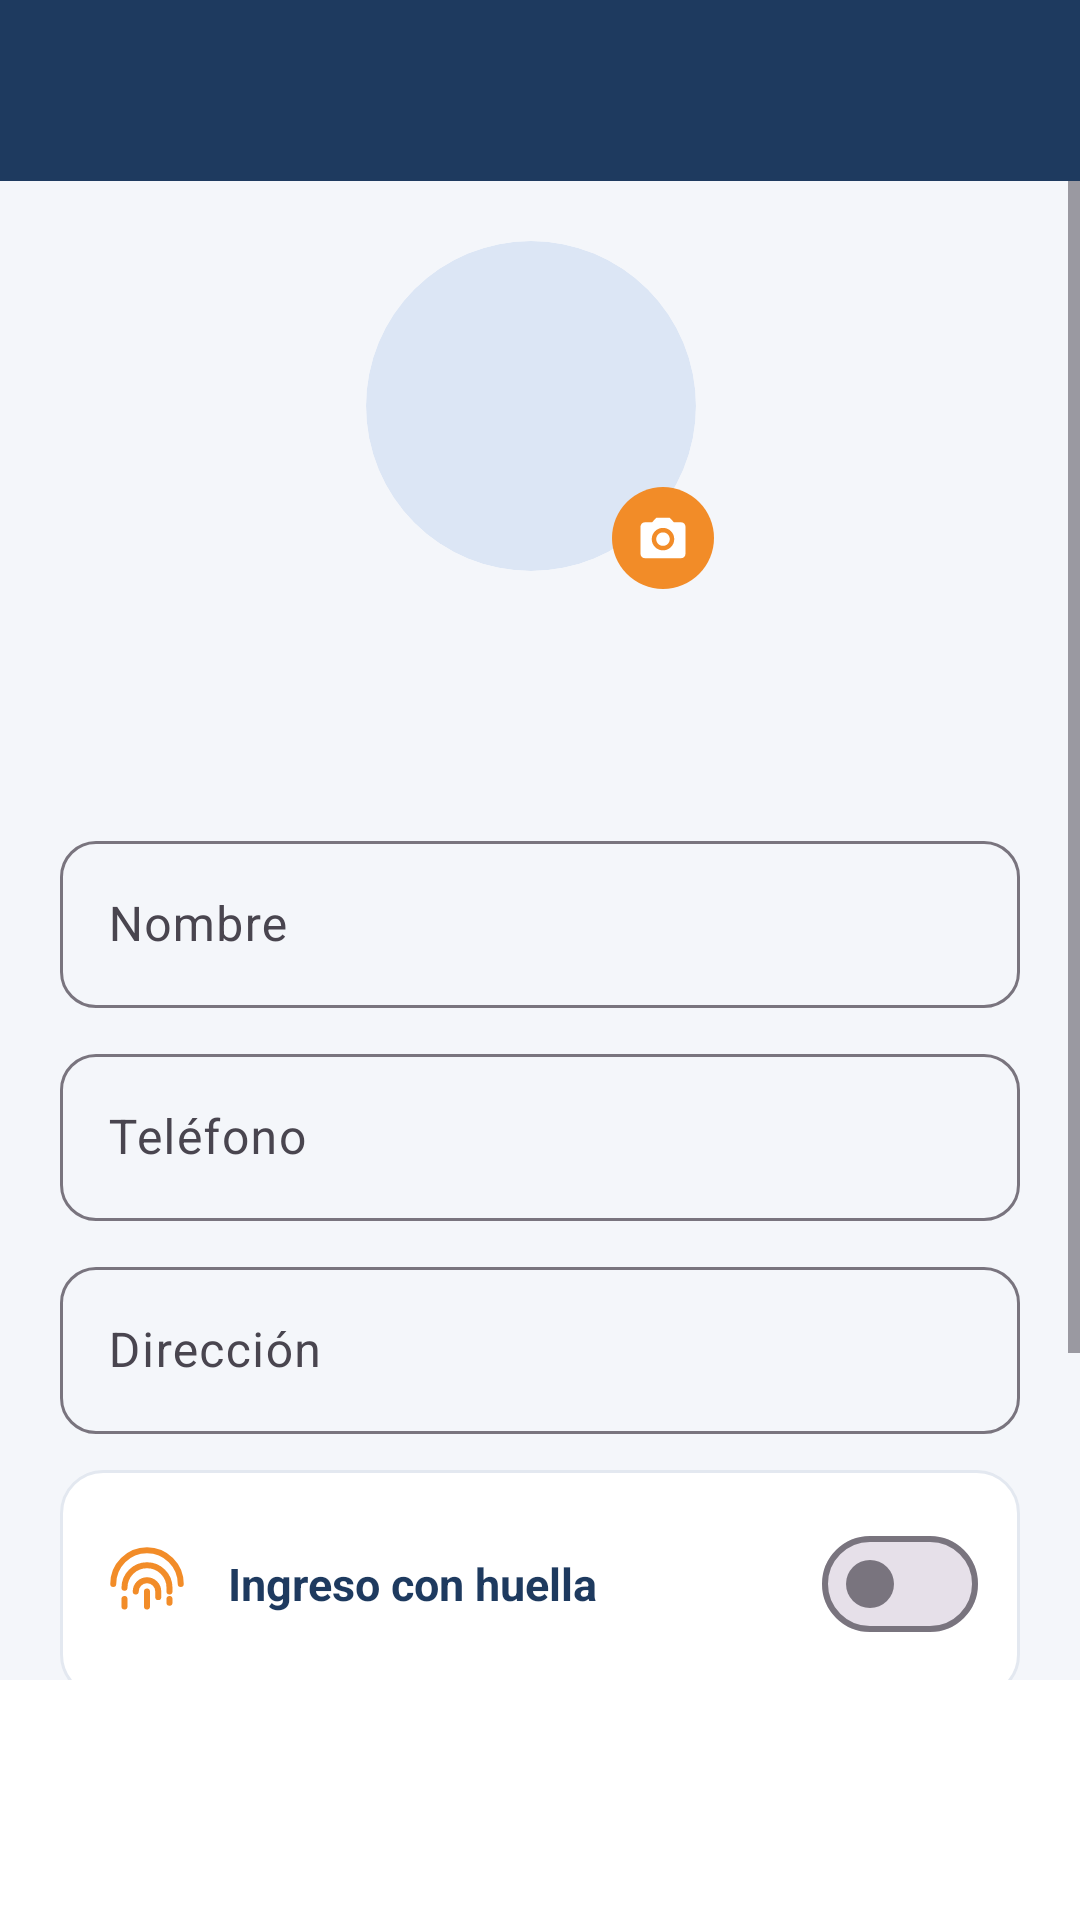

Icon click points for this 1080*1920 phone screenshot, format (x=x, y=y):
camera: (x=663, y=538)
fingerprint: (x=147, y=1578)
